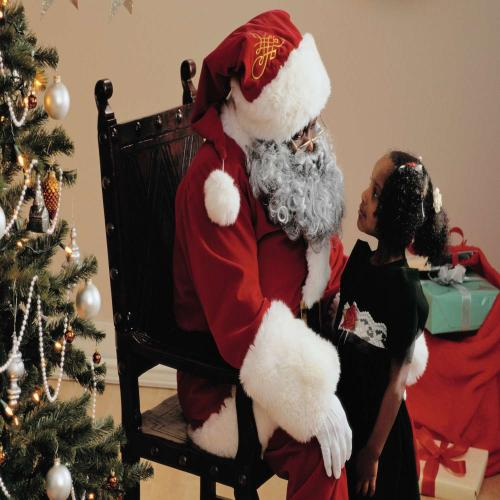Santa: (170, 8, 386, 500)
